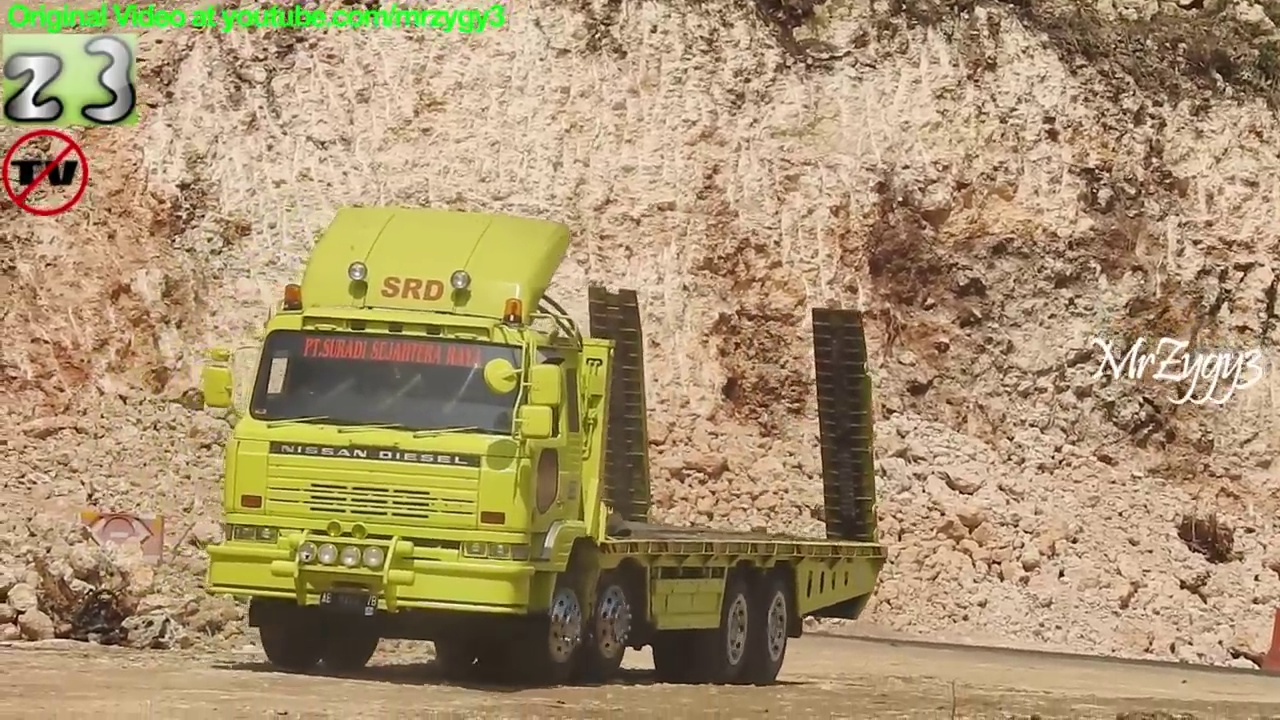truck: (198, 196, 895, 690)
